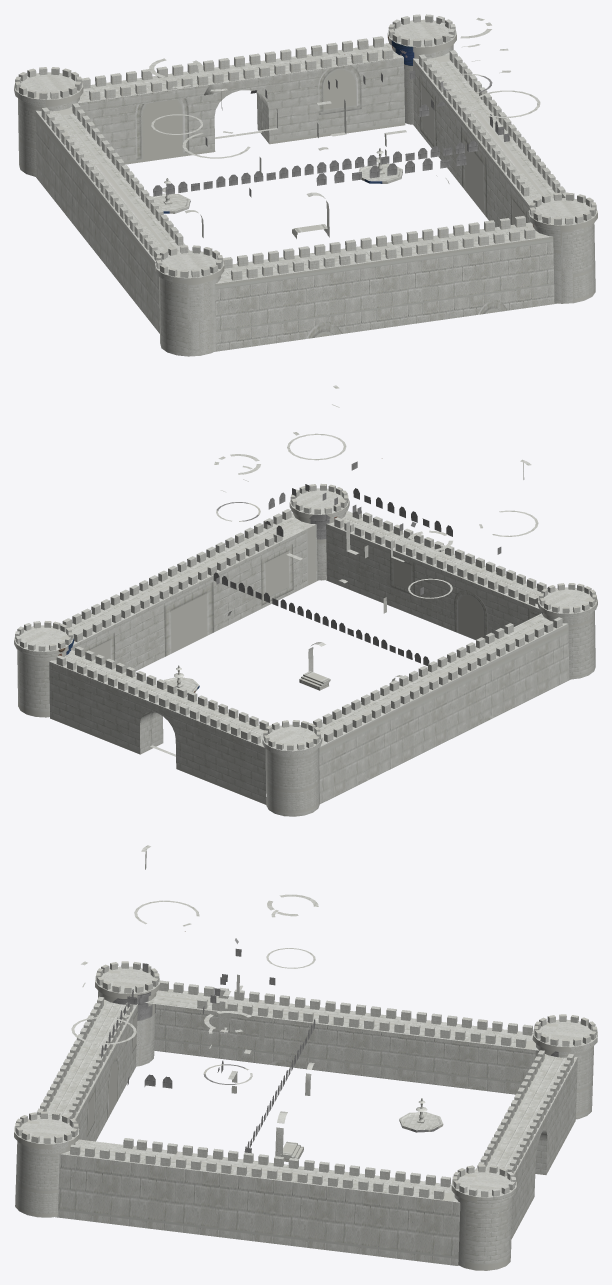
The model's file is castleExterior.obj.
The picture shows the model from 3 angles, top to bottom: view 1: azimuth 30°, elevation 25°; view 2: azimuth 150°, elevation 25°; view 3: azimuth 270°, elevation 25°; orthographic projection. The views are drawn at different scales.
Visible parts, largest first — view 1: Castle_OBJ.001; view 2: Castle_OBJ.001; view 3: Castle_OBJ.001.
Part boxes in pixels (box(x1,y1,x2,y2)): Castle_OBJ.001: box(14, 14, 597, 356); Castle_OBJ.001: box(14, 385, 597, 816); Castle_OBJ.001: box(14, 845, 597, 1270).
Bounding box in the file's own units: 30.02 × 15.09 × 33.33.
1 material, 1 textured.
